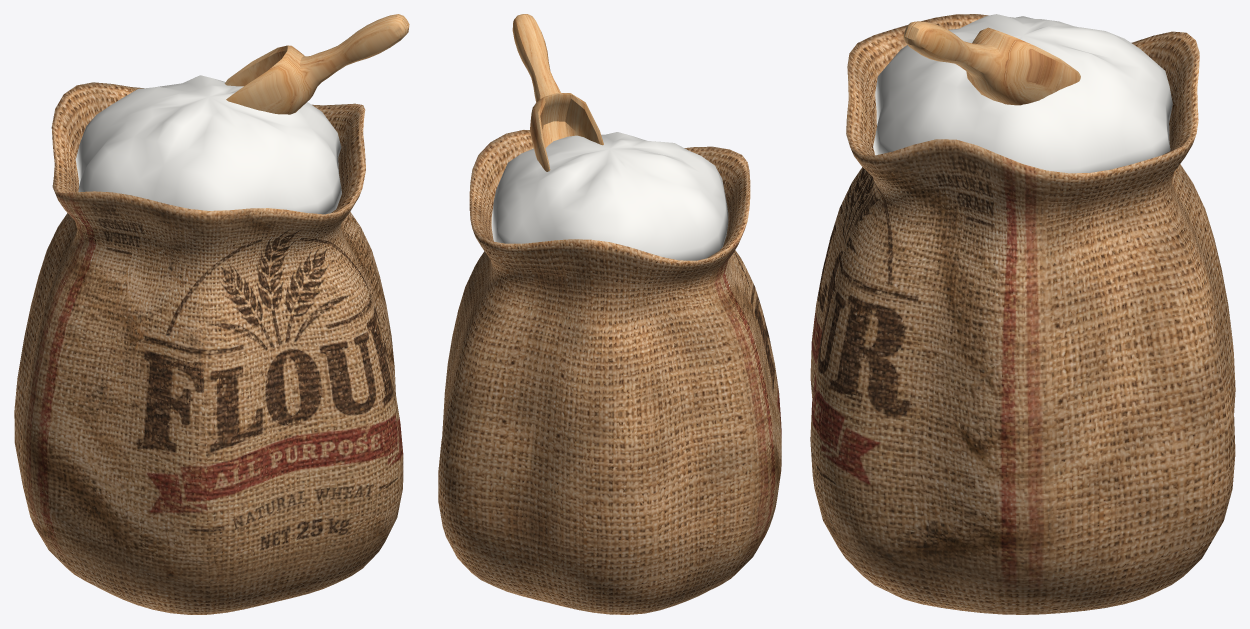
The model's file is flour_sack.fbx.
The picture shows the model from 3 angles, left to right: view 1: azimuth 30°, elevation 25°; view 2: azimuth 150°, elevation 25°; view 3: azimuth 270°, elevation 25°; orthographic projection. The views are drawn at different scales.
Parts seen in each view (by area): view 1: sack, bean_pile, scoop_in; view 2: sack, bean_pile, scoop_in; view 3: sack, bean_pile, scoop_in.
Part boxes in pixels (x1,y1,x2,y2): sack: (14,82,403,614); bean_pile: (75,75,341,214); scoop_in: (224,14,409,114); sack: (438,130,781,614); bean_pile: (491,132,728,260); scoop_in: (512,14,603,171); sack: (810,14,1235,614); bean_pile: (873,14,1172,173); scoop_in: (903,21,1080,105).
Bounding box in the file's own units: 120 × 175 × 110.
3 materials, 2 textured.
